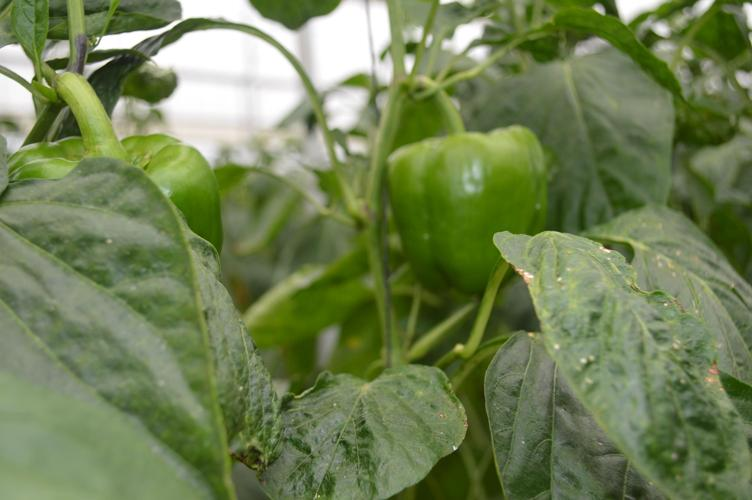BellPepper: (382, 129, 571, 296), (14, 119, 230, 251)
